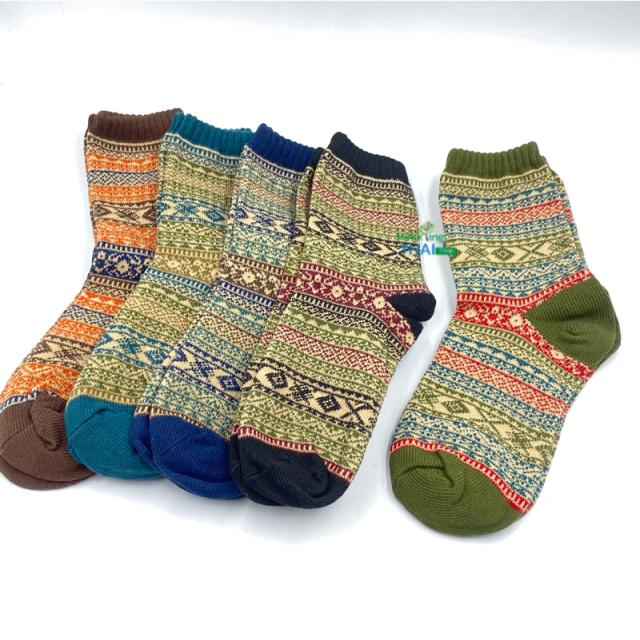sock: (386, 140, 621, 536), (227, 130, 436, 509), (128, 121, 322, 501), (62, 111, 254, 480), (0, 106, 183, 491)
